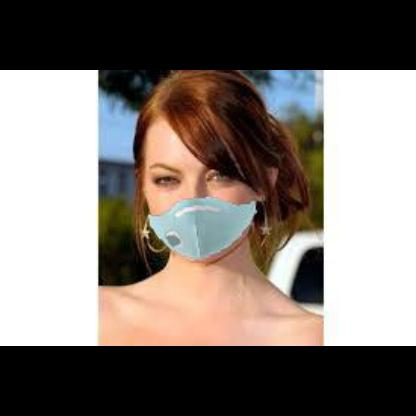FFP Mask: (128, 118, 272, 262)
